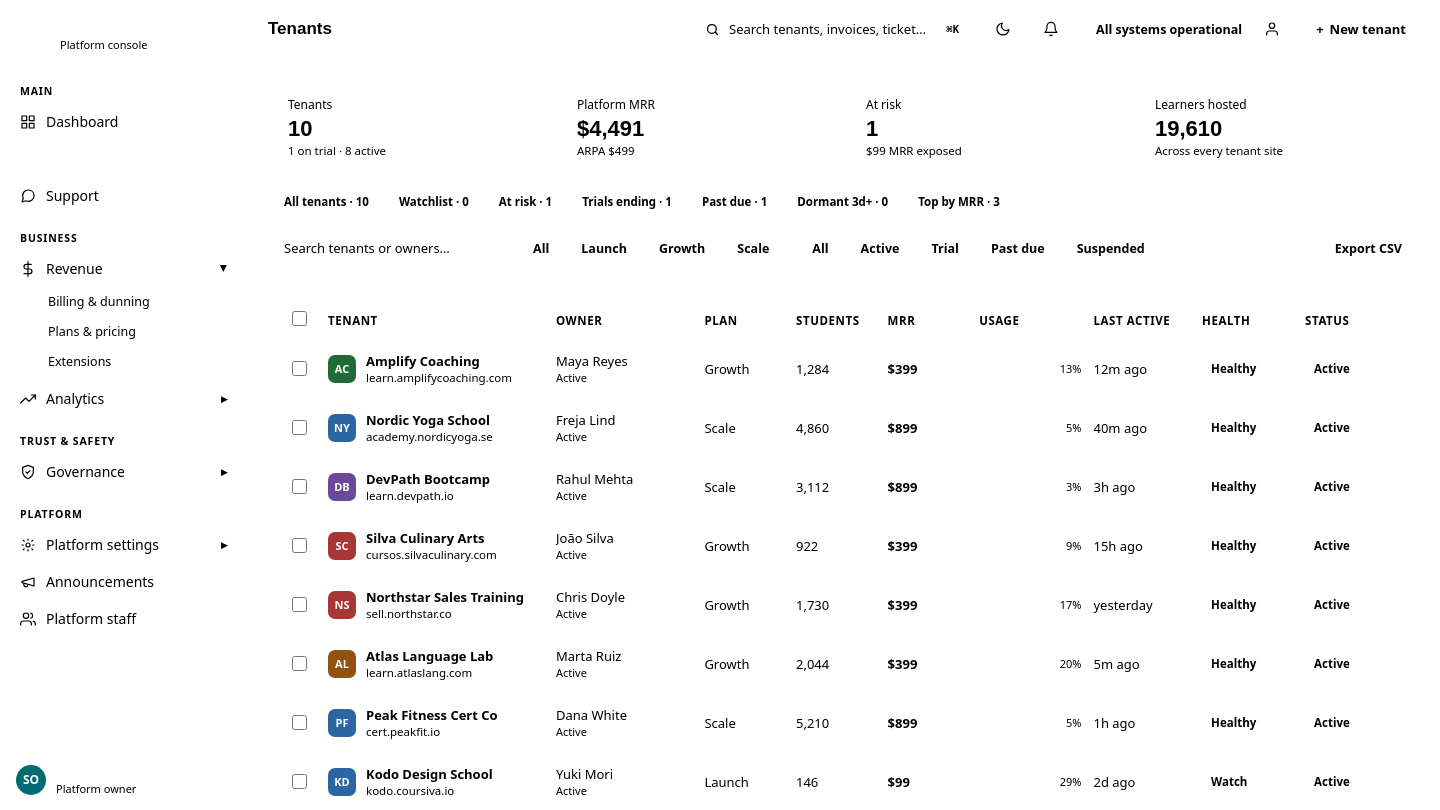
tenant directory › filters by segment and keeps the filter in the URL
What coordinates should you click on to do the following:
click the button "Past due · 1"
I would click on:
 (735, 202)
Its box is [690,188,779,215].
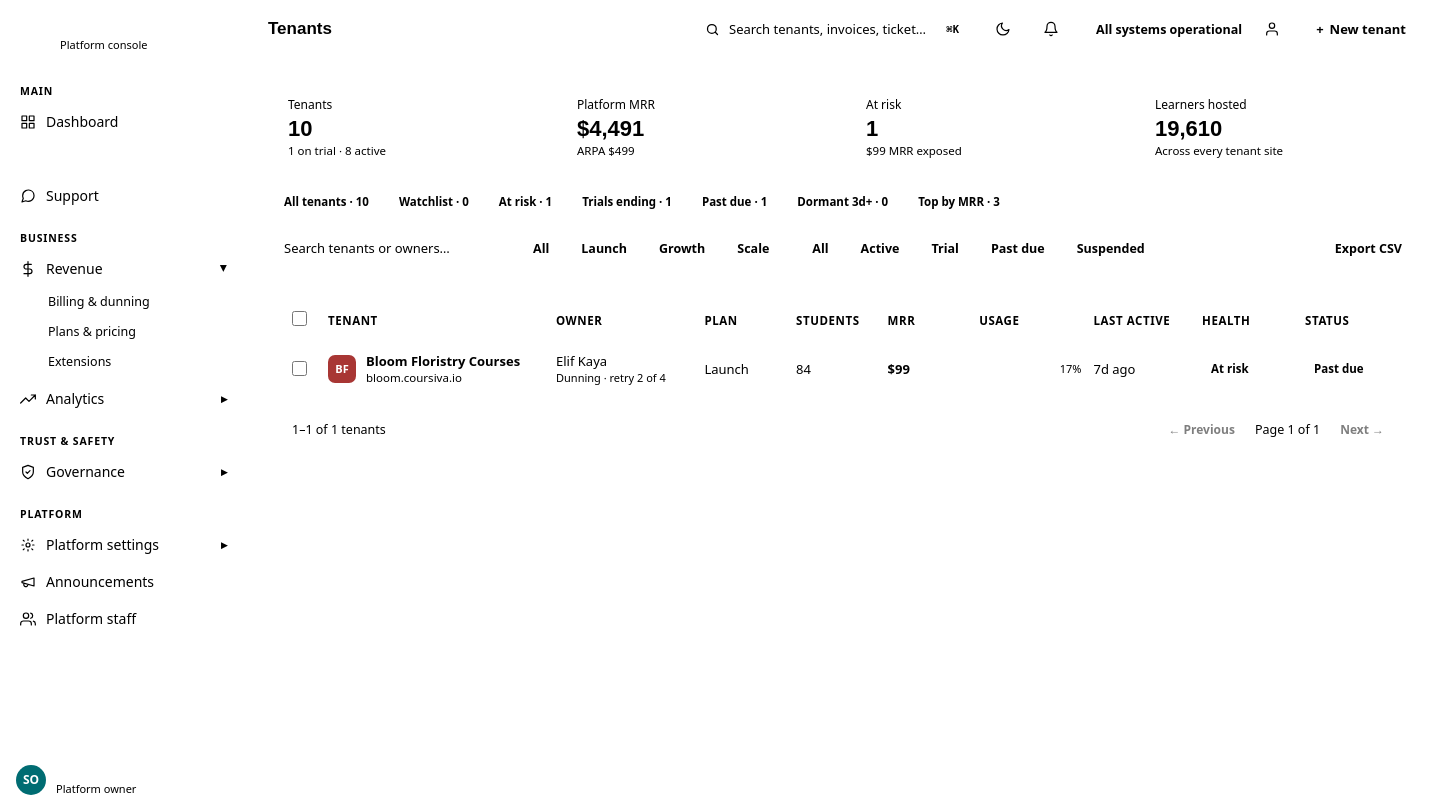
Expected: the number of rows is 2, [292,311,1350,328]; [292,352,1364,385]
